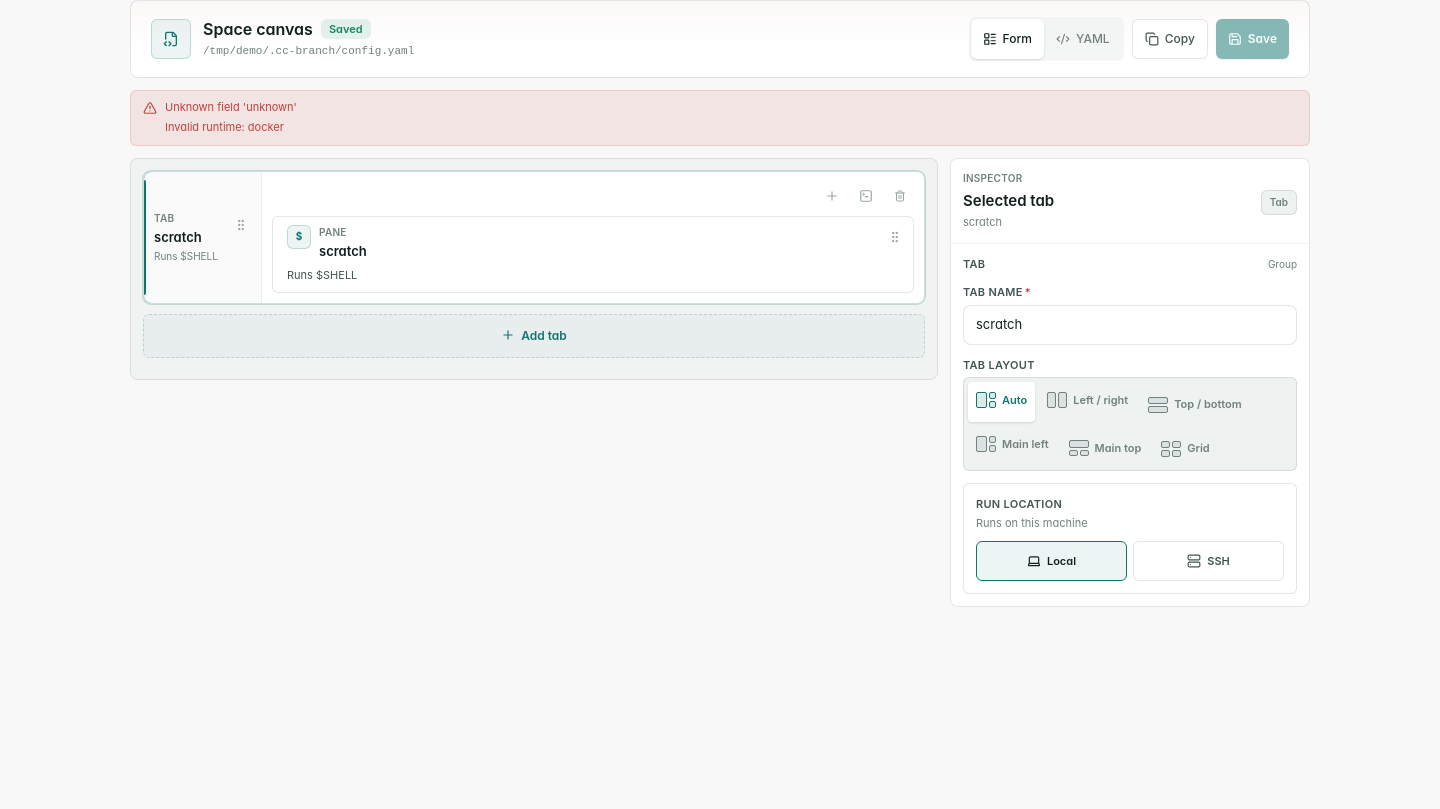
it: ConfigEditor diagnostics › shows terminal commands as shell commands only when no agent is selected
Click the button with aria-label "Edit pane scratch": click(343, 251) [272,216,914,293]
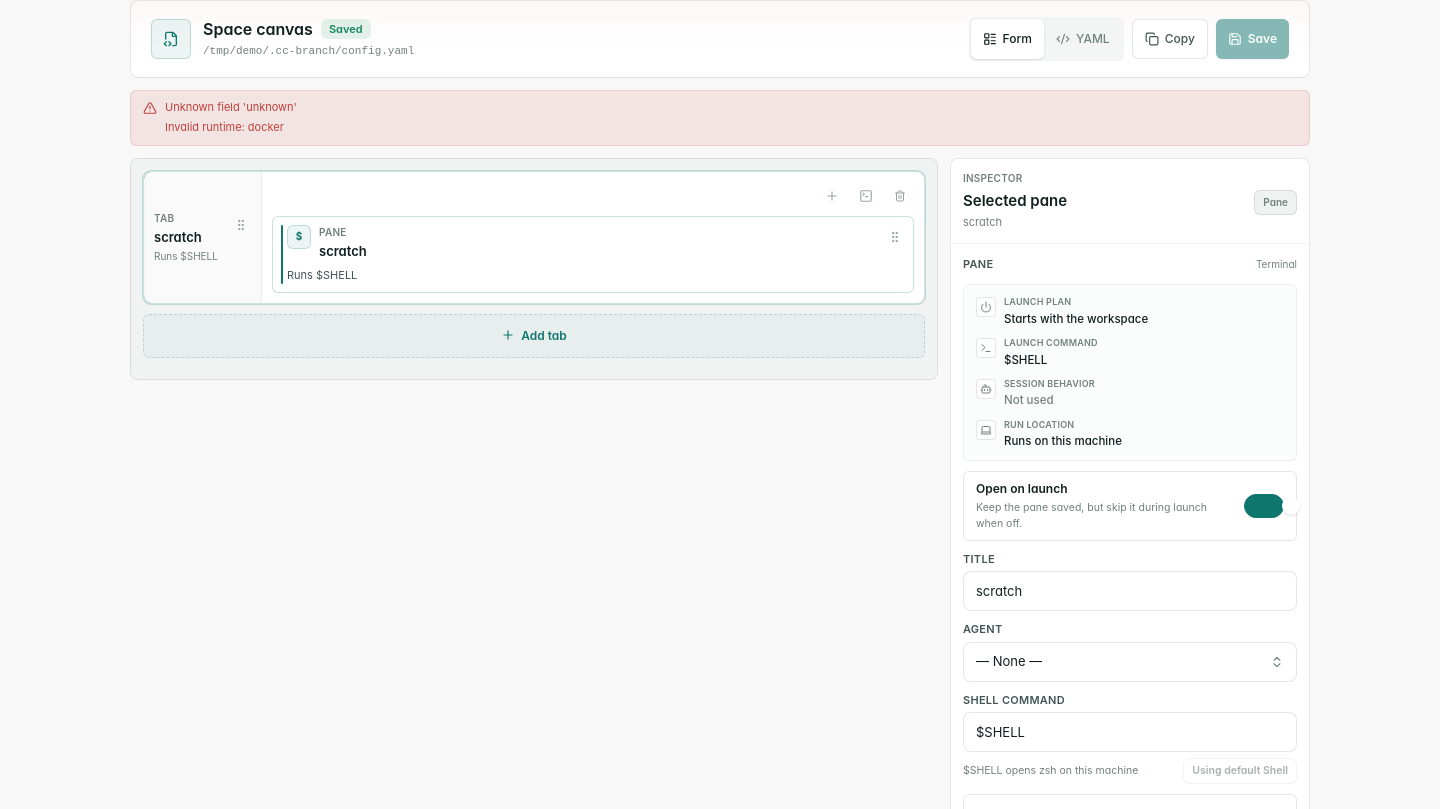
Result: the text "Shell command" is shown at [963,693,1065,707]
